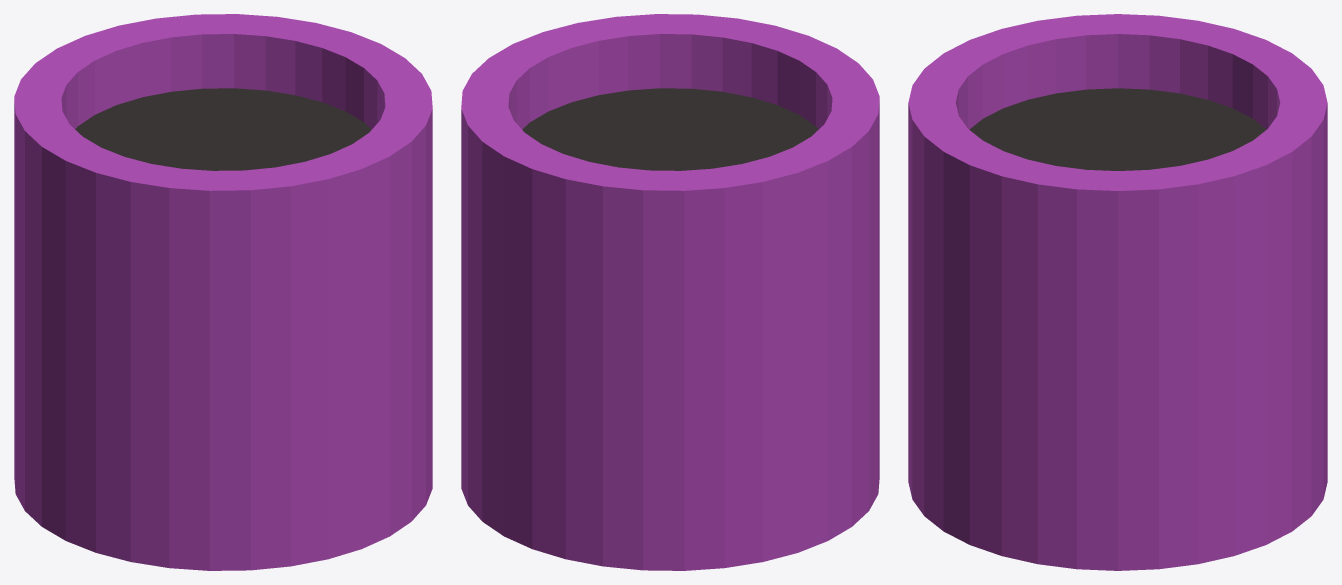
Rendered from CoffeCup_full.fbx.
The picture shows the model from 3 angles, left to right: view 1: azimuth 30°, elevation 25°; view 2: azimuth 150°, elevation 25°; view 3: azimuth 270°, elevation 25°; orthographic projection.
Parts seen in each view (by area): view 1: CoffeCup_full; view 2: CoffeCup_full; view 3: CoffeCup_full.
Boxes of the visible parts, x1,y1,x2,y2 form: CoffeCup_full: [14, 14, 432, 570]; CoffeCup_full: [461, 14, 879, 570]; CoffeCup_full: [908, 14, 1327, 570].
Bounding box in the file's own units: 10 × 10 × 10.
1 material, 1 textured.
